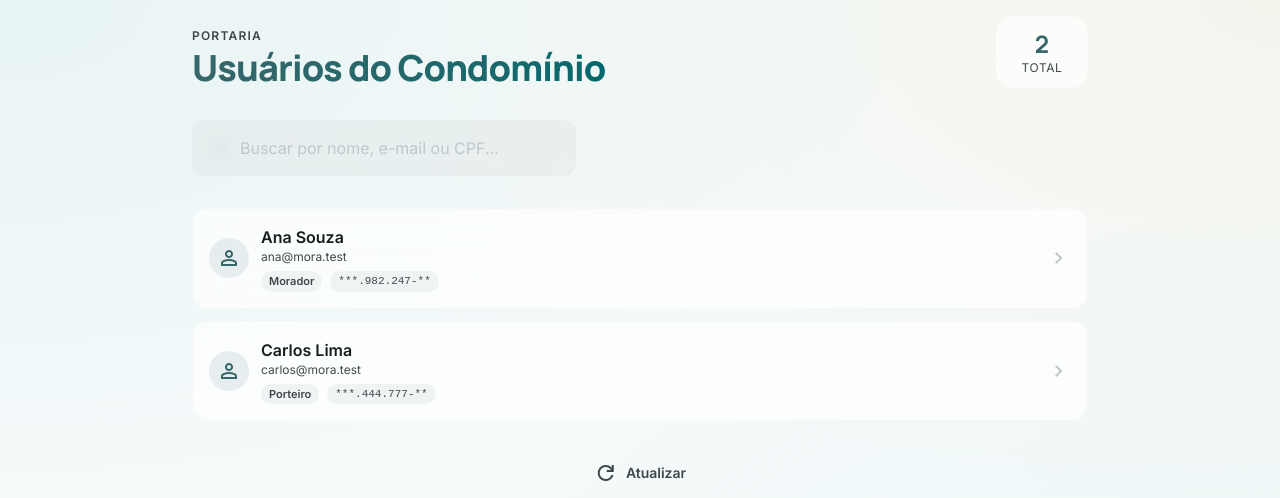
it: UsuariosCondominio › busca por nome filtra a lista
The image size is (1280, 498).
Expected: the text "Ana Souza" is shown, [261,227,344,247]
Type "Carlos" into the field with placeholder "Buscar por nome, e-mail ou CPF..." at {"x": 384, "y": 148}, box [192,120,576,176]
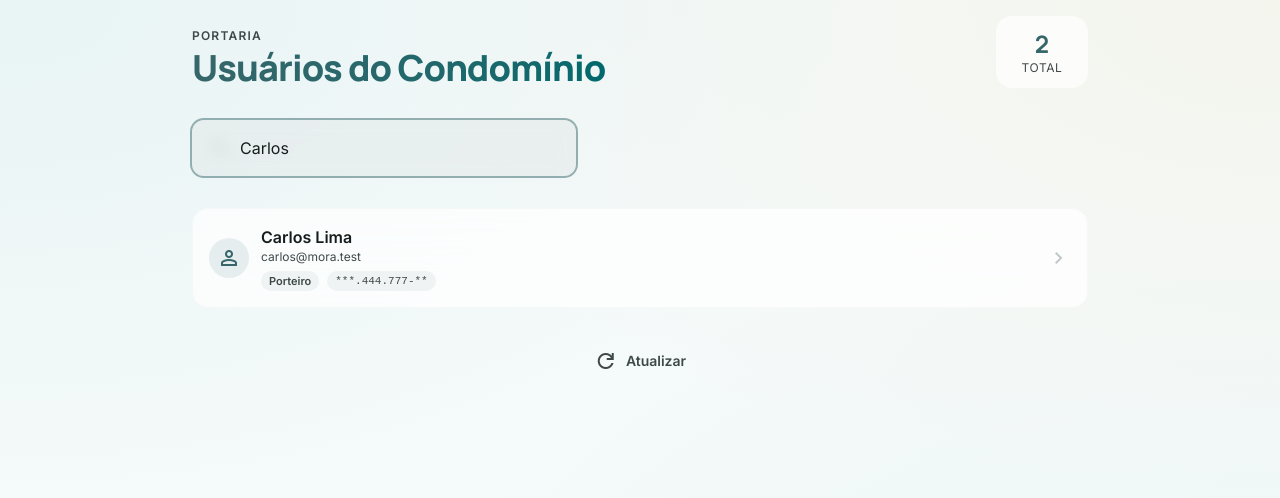
Expected: the text "Carlos Lima" is shown, [261,227,352,247]
Expected: the button "Ana Souza" is gone
